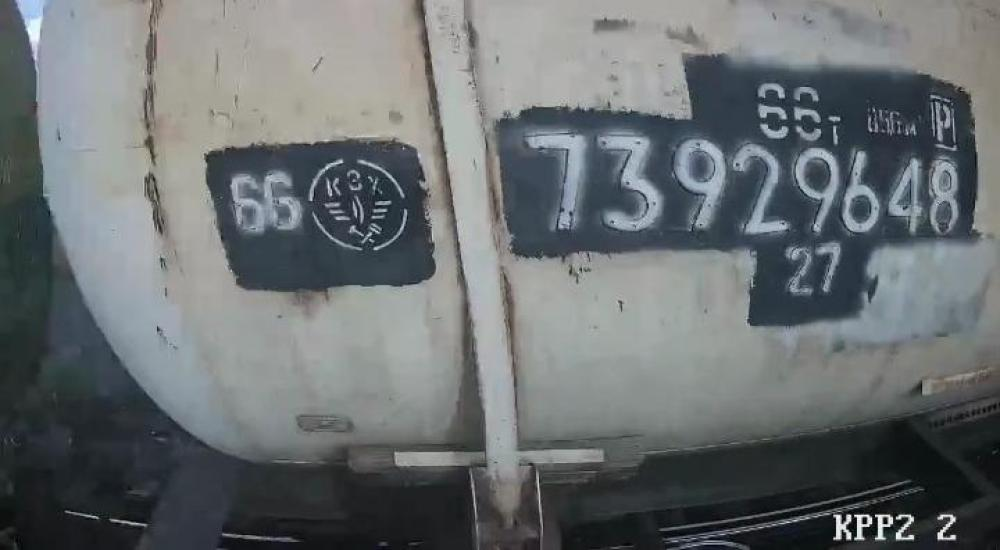Wagon-number: (520, 126, 968, 242)
